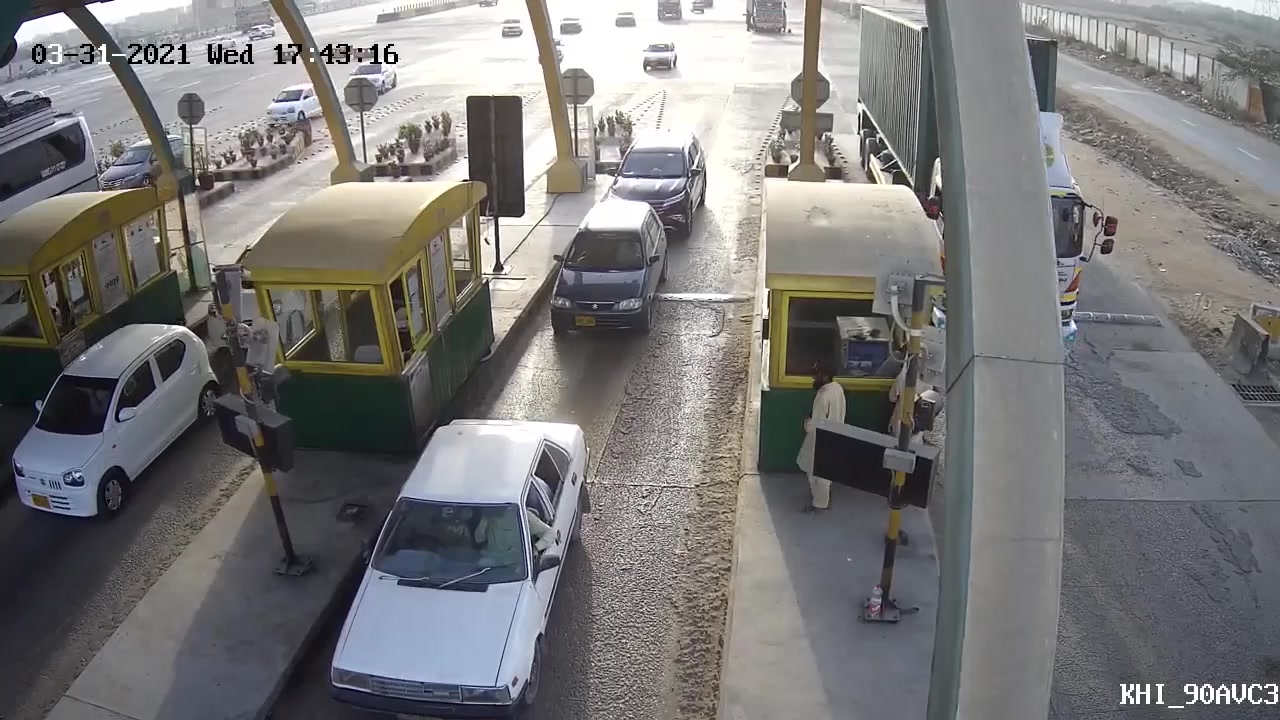F1: (334, 417, 591, 720), (546, 194, 668, 337), (605, 129, 707, 231)
